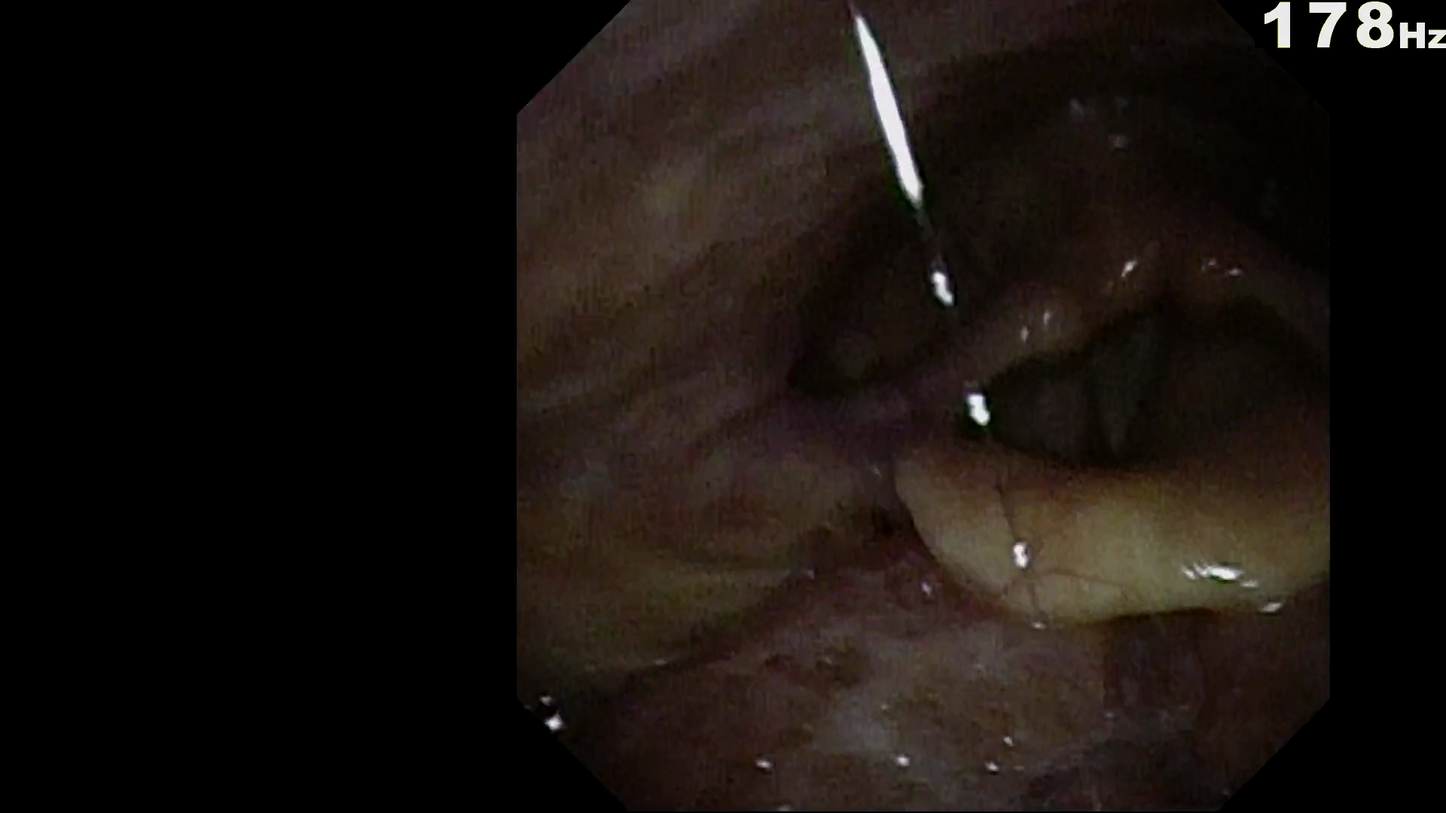epiglottis: (880, 434, 1319, 645)
trachea: (1053, 326, 1199, 480)
